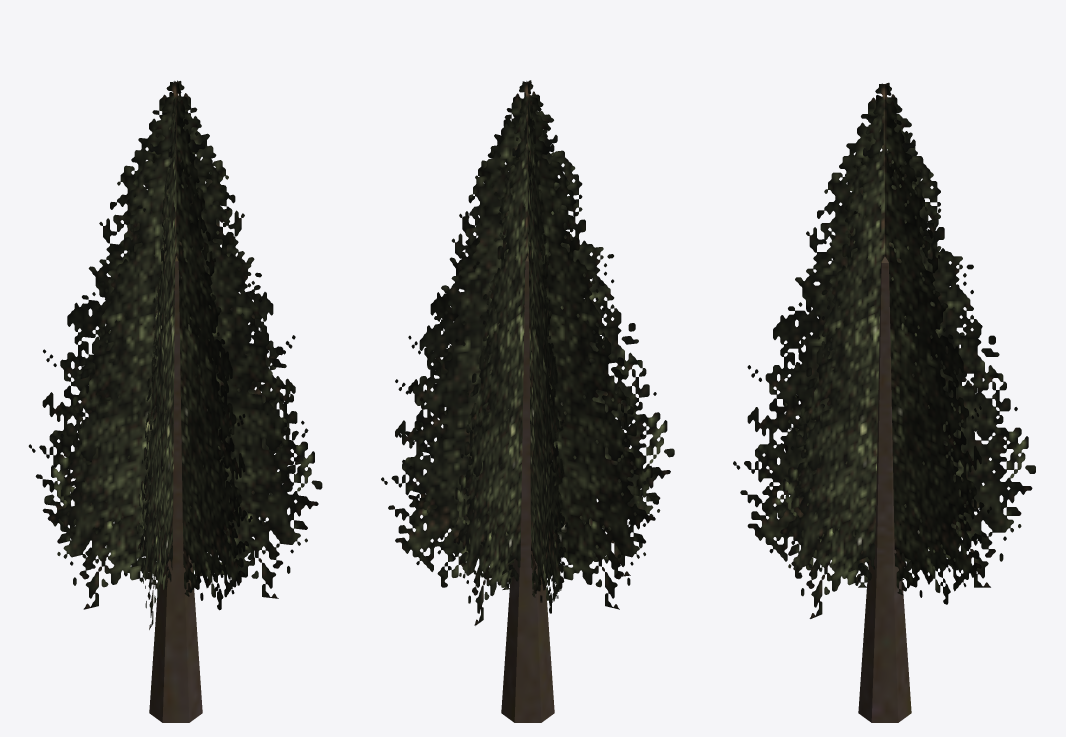
Rendered from tree12.glb.
The picture shows the model from 3 angles, left to right: view 1: azimuth 30°, elevation 25°; view 2: azimuth 150°, elevation 25°; view 3: azimuth 270°, elevation 25°; orthographic projection.
Visible parts, largest first — view 1: tree12; view 2: tree12; view 3: tree12.
Boxes of the visible parts, left/top/right/bottom form: tree12: left=28, top=80, right=322, bottom=722; tree12: left=381, top=80, right=674, bottom=722; tree12: left=733, top=82, right=1035, bottom=722.
Size of the model in its own units: 6 by 12.5 by 6.
Materials: 1 (1 with a texture image).
